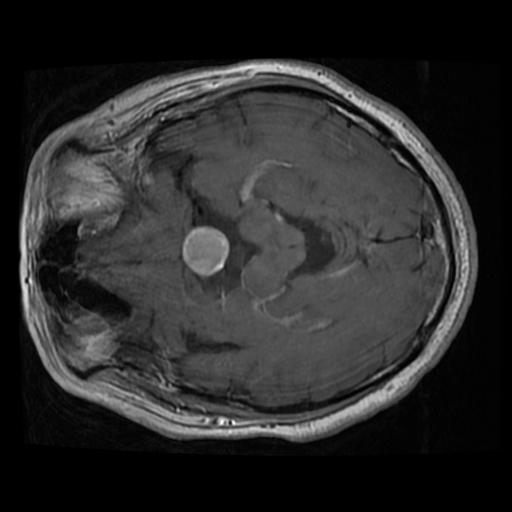pituitary tumour: (181, 225, 230, 277)
